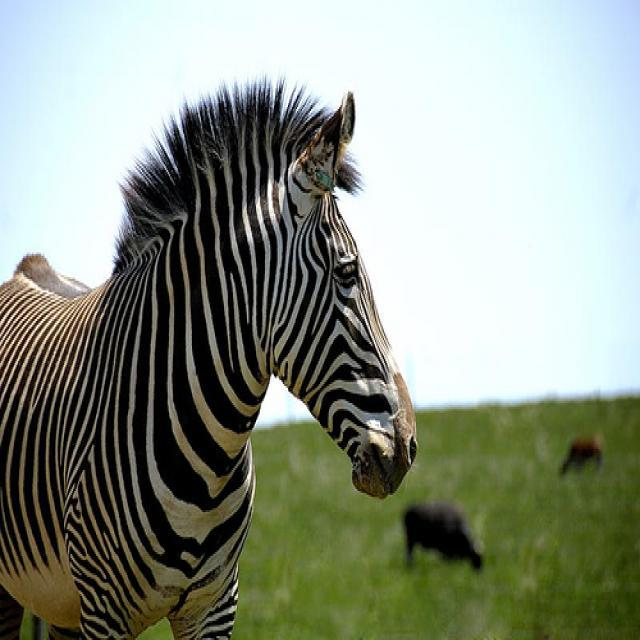cow: (403, 499, 480, 568), (561, 430, 602, 472)
